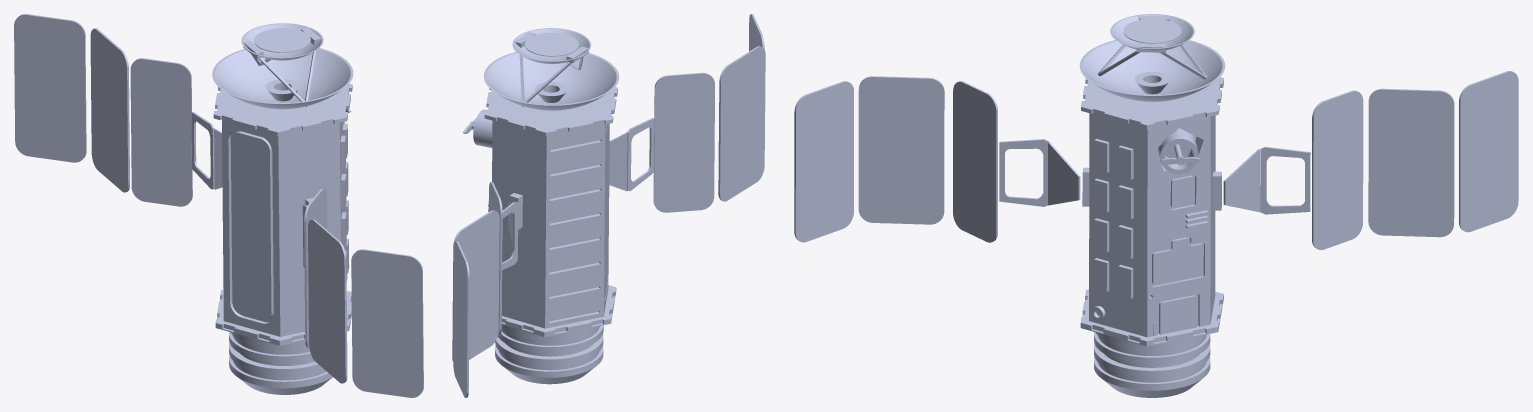
The model's file is SatelliteFBX.FBX.
3 views of the same model, side by side, from view 1: azimuth 30°, elevation 25°; view 2: azimuth 150°, elevation 25°; view 3: azimuth 270°, elevation 25° (orthographic). The views are drawn at different scales.
Visible parts, largest first — view 1: Cut-Extrude23, Mirror12[8], Boss-Extrude29, Mirror12[6], Boss-Extrude28, Mirror12[7], Mirror12[2], Boss-Extrude27, Mirror12[3], Mirror12[5], Mirror12[4]; view 2: Cut-Extrude23, Boss-Extrude27, Boss-Extrude28, Mirror12[7], Mirror12[8], Mirror12[2], Mirror12[3], Boss-Extrude25, Cut-Extrude21, Mirror12[6], Mirror12[5], Boss-Extrude29; view 3: Cut-Extrude23, Boss-Extrude28, Mirror12[7], Mirror12[8], Boss-Extrude29, Mirror12[6], Boss-Extrude27, Mirror12[4], Mirror12[5], Boss-Extrude25, Mirror12[2], Cut-Extrude21 (+1 smaller).
Part boxes in pixels (x1,y1,x2,y2): Cut-Extrude23: [212, 48, 353, 394]; Mirror12[8]: [14, 14, 86, 162]; Boss-Extrude29: [351, 249, 423, 397]; Mirror12[6]: [130, 58, 192, 206]; Boss-Extrude28: [308, 219, 347, 383]; Mirror12[7]: [90, 28, 129, 192]; Mirror12[2]: [241, 23, 323, 60]; Boss-Extrude27: [304, 188, 327, 348]; Mirror12[3]: [254, 28, 310, 52]; Mirror12[5]: [191, 111, 214, 189]; Mirror12[4]: [214, 128, 222, 189]; Cut-Extrude23: [463, 52, 619, 384]; Boss-Extrude27: [653, 72, 714, 212]; Boss-Extrude28: [718, 46, 765, 201]; Mirror12[7]: [452, 210, 499, 360]; Mirror12[8]: [453, 241, 469, 397]; Mirror12[2]: [512, 28, 591, 63]; Mirror12[3]: [524, 32, 578, 56]; Boss-Extrude25: [609, 132, 627, 191]; Cut-Extrude21: [626, 118, 654, 191]; Mirror12[6]: [488, 182, 502, 335]; Mirror12[5]: [502, 202, 517, 269]; Boss-Extrude29: [749, 14, 764, 51]; Cut-Extrude23: [1079, 40, 1225, 397]; Boss-Extrude28: [858, 76, 944, 224]; Mirror12[7]: [1368, 88, 1454, 237]; Mirror12[8]: [1459, 71, 1518, 232]; Boss-Extrude29: [794, 81, 853, 242]; Mirror12[6]: [1312, 90, 1363, 250]; Boss-Extrude27: [953, 81, 997, 242]; Mirror12[4]: [1223, 149, 1260, 212]; Mirror12[5]: [1260, 146, 1310, 214]; Boss-Extrude25: [1048, 142, 1080, 205]; Mirror12[2]: [1110, 14, 1194, 52]; Cut-Extrude21: [999, 139, 1049, 206].
Bounding box in the file's own units: 2.64 × 5.2 × 9.8.
